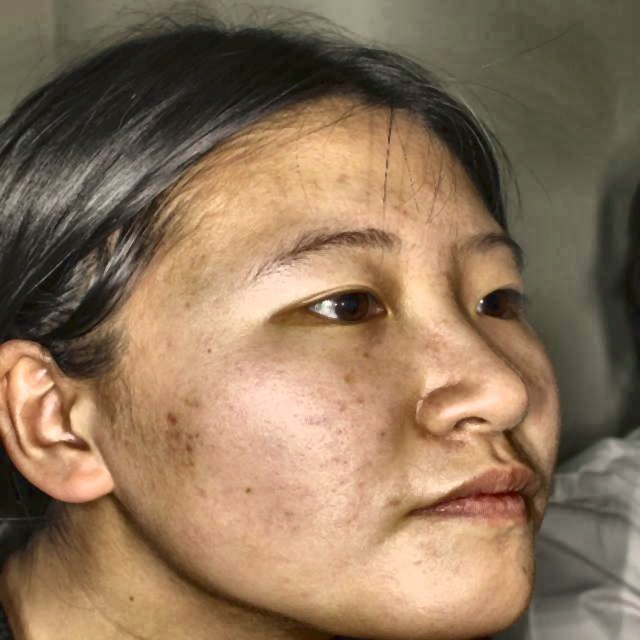comedone: (158, 403, 199, 438)
